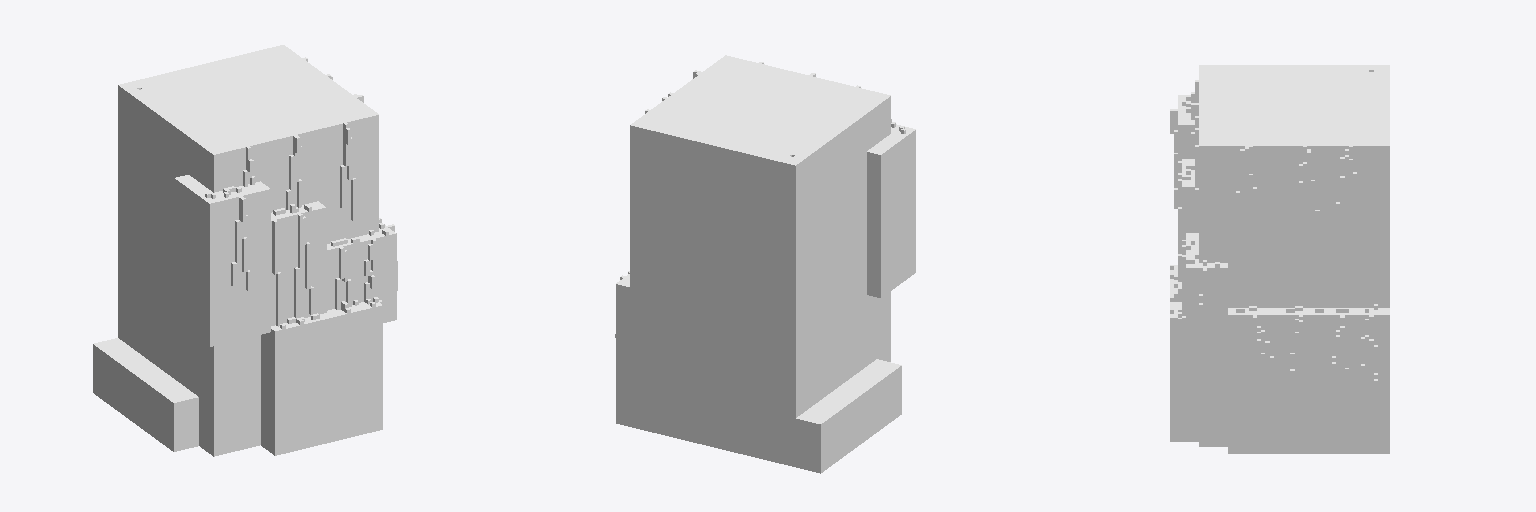
File: pilar_arena1.obj
3 renders of one model, left to right at view 1: azimuth 30°, elevation 25°; view 2: azimuth 150°, elevation 25°; view 3: azimuth 270°, elevation 25°, orthographic.
Visible parts, largest first — view 1: object 1; view 2: object 1; view 3: object 1.
Boxes of the visible parts, <box> form: object 1: <box>93,45,397,456</box>; object 1: <box>615,55,915,473</box>; object 1: <box>1170,65,1389,453</box>.
Bounding box in the file's own units: 6 × 8 × 5.3.